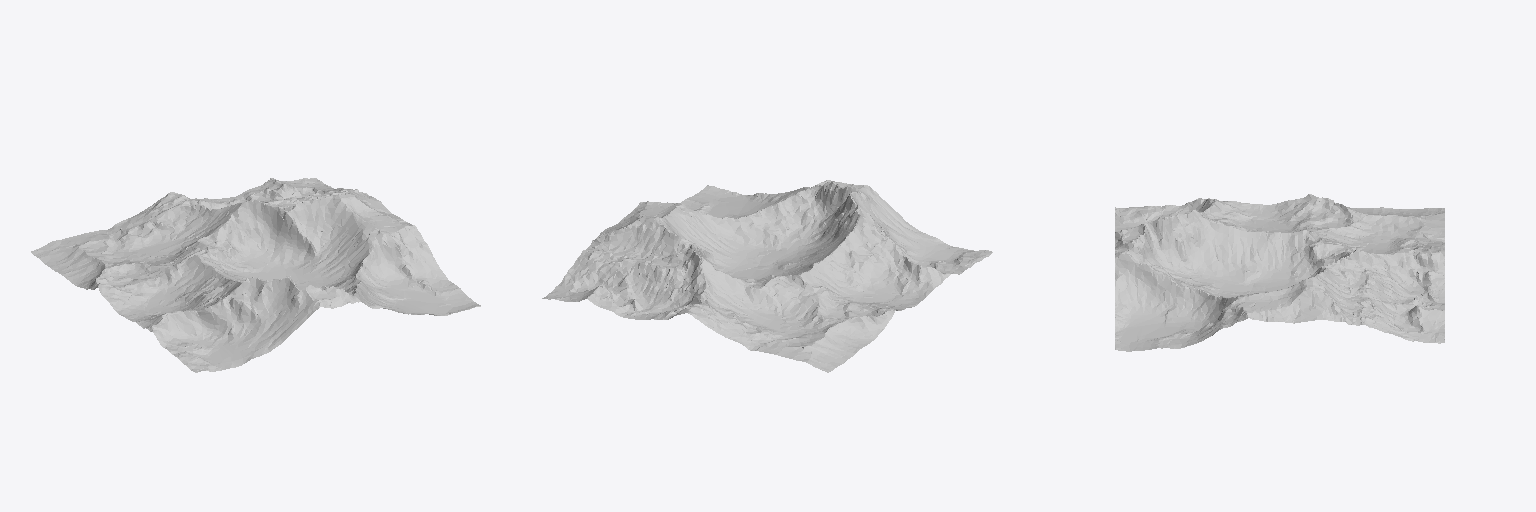
The model's file is mountain1.obj.
3 renders of one model, left to right at view 1: azimuth 30°, elevation 25°; view 2: azimuth 150°, elevation 25°; view 3: azimuth 270°, elevation 25°, orthographic.
Visible parts, largest first — view 1: mountain; view 2: mountain; view 3: mountain.
Part boxes in pixels (left/top/right/bottom): mountain: left=31, top=178, right=480, bottom=372; mountain: left=542, top=180, right=992, bottom=372; mountain: left=1115, top=194, right=1444, bottom=351.
Size of the model in its own units: 1000 by 177 by 1000.